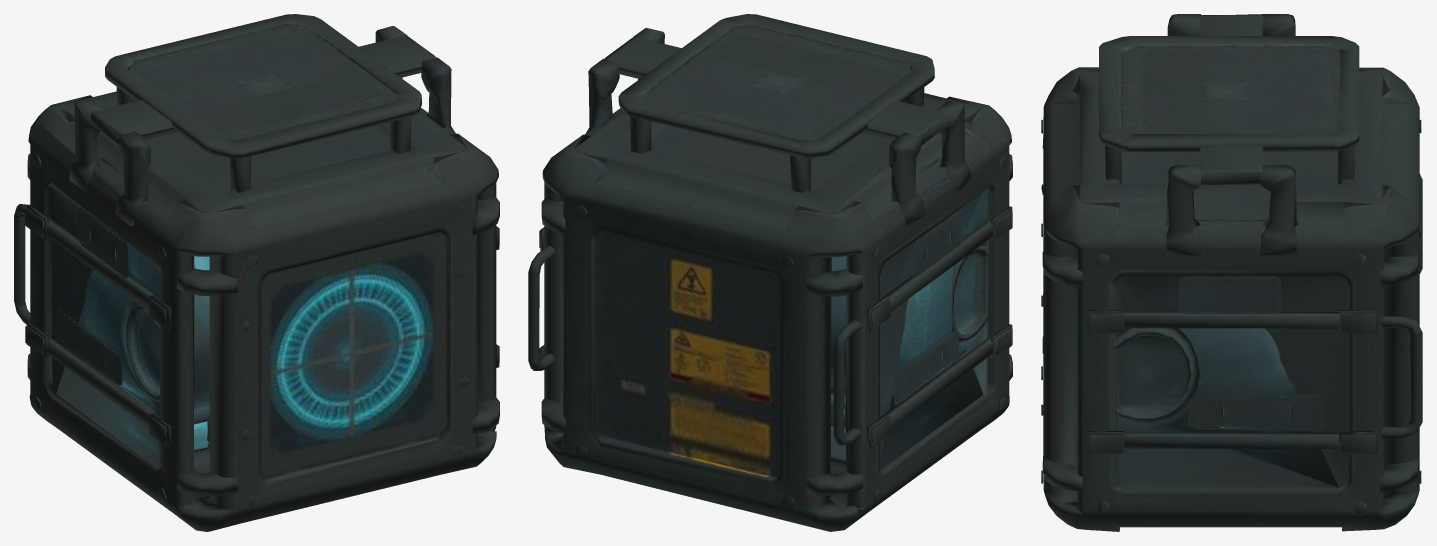
The model's file is sty_stabilizer.glb.
3 views of the same model, side by side, from view 1: azimuth 30°, elevation 25°; view 2: azimuth 150°, elevation 25°; view 3: azimuth 270°, elevation 25° (orthographic). The views are drawn at different scales.
Bounding box in the file's own units: 0.9092 × 0.9536 × 0.874.
1 material, 1 textured.
